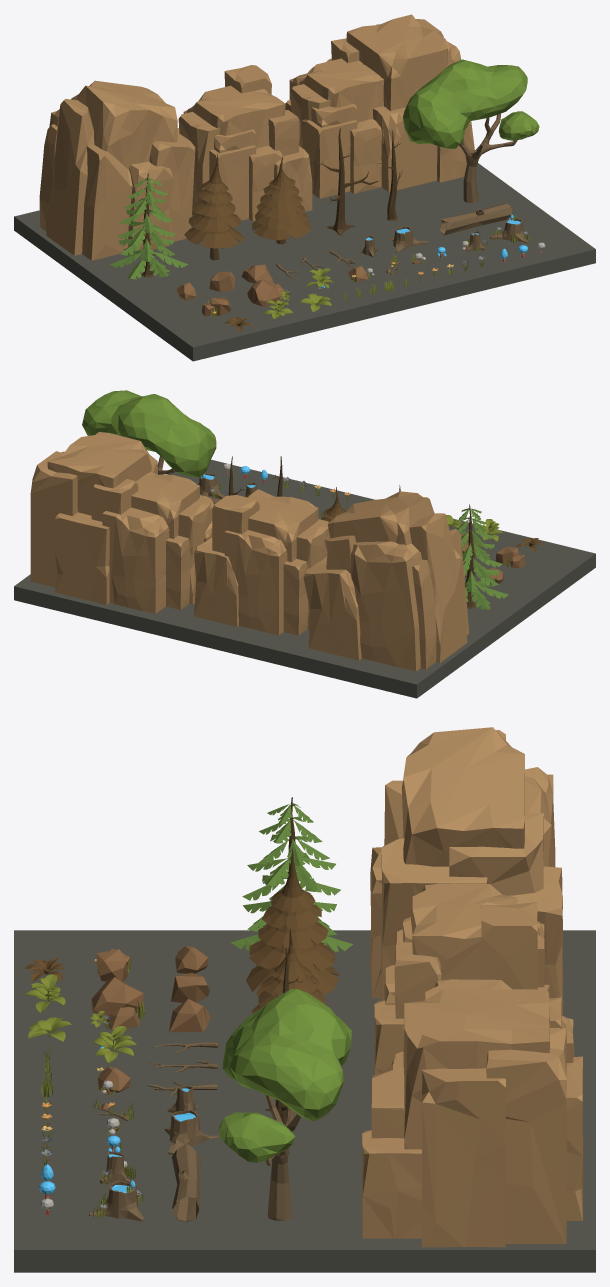
File: nature.obj
3 renders of one model, top to bottom at view 1: azimuth 30°, elevation 25°; view 2: azimuth 150°, elevation 25°; view 3: azimuth 270°, elevation 25°, orthographic. The views are drawn at different scales.
Visible parts, largest first — view 1: BG_Cube_Cube.007, BigRock_03_Cube.033, BigRock_02_Cube.019, BigRock_01_Cube.016, Tree_05_Cube.012, Tree_06_Cylinder.002, Tree_01_Cylinder, Tree_02_Cylinder.009, Log_01_Cylinder.001, Tree_03_Cylinder.016, Model_02_Cylinder.013, Model_09_Cylinder.022 (+3 smaller); view 2: BigRock_02_Cube.019, BigRock_03_Cube.033, BG_Cube_Cube.007, BigRock_01_Cube.016, Tree_05_Cube.012, Tree_06_Cylinder.002, Model_01_Cylinder.008, Model_09_Cylinder.022; view 3: BG_Cube_Cube.007, BigRock_02_Cube.019, BigRock_03_Cube.033, BigRock_01_Cube.016, Tree_05_Cube.012, Tree_01_Cylinder, Tree_06_Cylinder.002, Model_02_Cylinder.013, Log_01_Cylinder.001, Tree_02_Cylinder.009, Model_09_Cylinder.022, Stump_01_Cylinder.005 (+8 smaller).
Part boxes in pixels (bbox=[...]): BG_Cube_Cube.007: bbox=[14, 163, 595, 361]; BigRock_03_Cube.033: bbox=[39, 80, 195, 260]; BigRock_02_Cube.019: bbox=[285, 14, 474, 198]; BigRock_01_Cube.016: bbox=[177, 65, 312, 221]; Tree_05_Cube.012: bbox=[403, 59, 539, 202]; Tree_06_Cylinder.002: bbox=[109, 173, 188, 279]; Tree_01_Cylinder: bbox=[184, 153, 244, 260]; Tree_02_Cylinder.009: bbox=[252, 156, 311, 244]; Log_01_Cylinder.001: bbox=[439, 203, 512, 235]; Tree_03_Cylinder.016: bbox=[309, 127, 378, 235]; Model_02_Cylinder.013: bbox=[247, 279, 290, 306]; Model_09_Cylinder.022: bbox=[490, 214, 531, 243]; BigRock_02_Cube.019: bbox=[30, 432, 214, 613]; BigRock_03_Cube.033: bbox=[303, 491, 469, 671]; BG_Cube_Cube.007: bbox=[14, 459, 595, 698]; BigRock_01_Cube.016: bbox=[194, 489, 329, 635]; Tree_05_Cube.012: bbox=[82, 390, 216, 477]; Tree_06_Cylinder.002: bbox=[457, 504, 508, 609]; Model_01_Cylinder.008: bbox=[495, 547, 525, 567]; Model_09_Cylinder.022: bbox=[198, 473, 224, 498]; BG_Cube_Cube.007: bbox=[14, 930, 595, 1272]; BigRock_02_Cube.019: bbox=[361, 979, 583, 1247]; BigRock_03_Cube.033: bbox=[369, 727, 563, 1015]; BigRock_01_Cube.016: bbox=[374, 883, 549, 1075]; Tree_05_Cube.012: bbox=[219, 989, 351, 1220]; Tree_01_Cylinder: bbox=[246, 848, 339, 995]; Tree_06_Cylinder.002: bbox=[230, 797, 353, 965]; Model_02_Cylinder.013: bbox=[90, 977, 144, 1030]; Log_01_Cylinder.001: bbox=[172, 1144, 200, 1221]; Tree_02_Cylinder.009: bbox=[252, 928, 328, 1013]; Model_09_Cylinder.022: bbox=[89, 1180, 144, 1221]; Stump_01_Cylinder.005: bbox=[164, 1109, 219, 1154].
Size of what is drawn, in the model's own units: 19.04 by 6.82 by 13.98.
